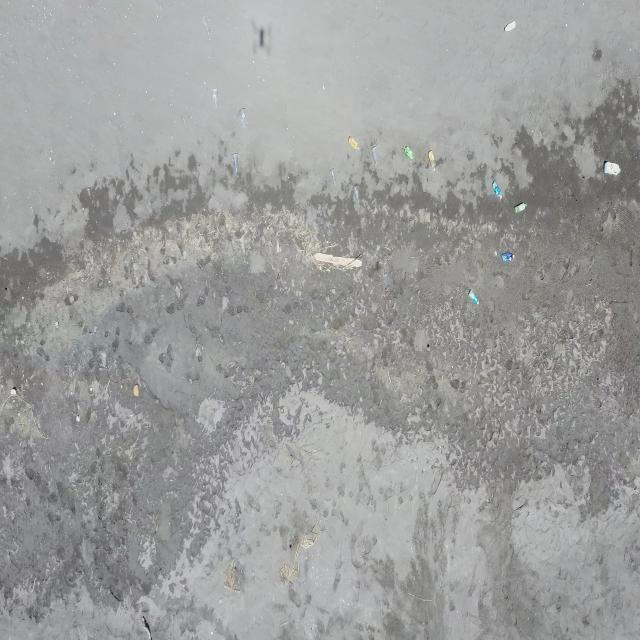plastic-bottle: (603, 160, 621, 178), (468, 287, 480, 305), (492, 181, 503, 200), (348, 136, 361, 152), (402, 144, 414, 160), (514, 201, 528, 214), (503, 20, 516, 34), (428, 150, 436, 172), (502, 251, 514, 263)
takeaway-cup: (238, 108, 248, 126), (232, 152, 240, 173), (371, 146, 379, 166), (352, 185, 361, 202), (211, 88, 219, 107), (329, 168, 336, 183)
